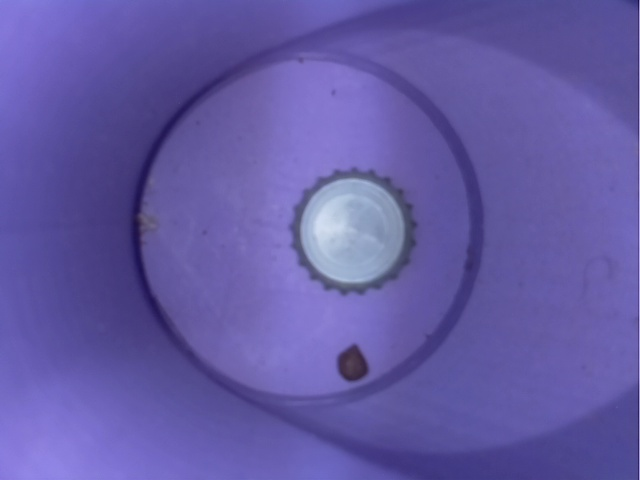capsule: (281, 152, 422, 294)
croquette: (325, 340, 371, 389)
